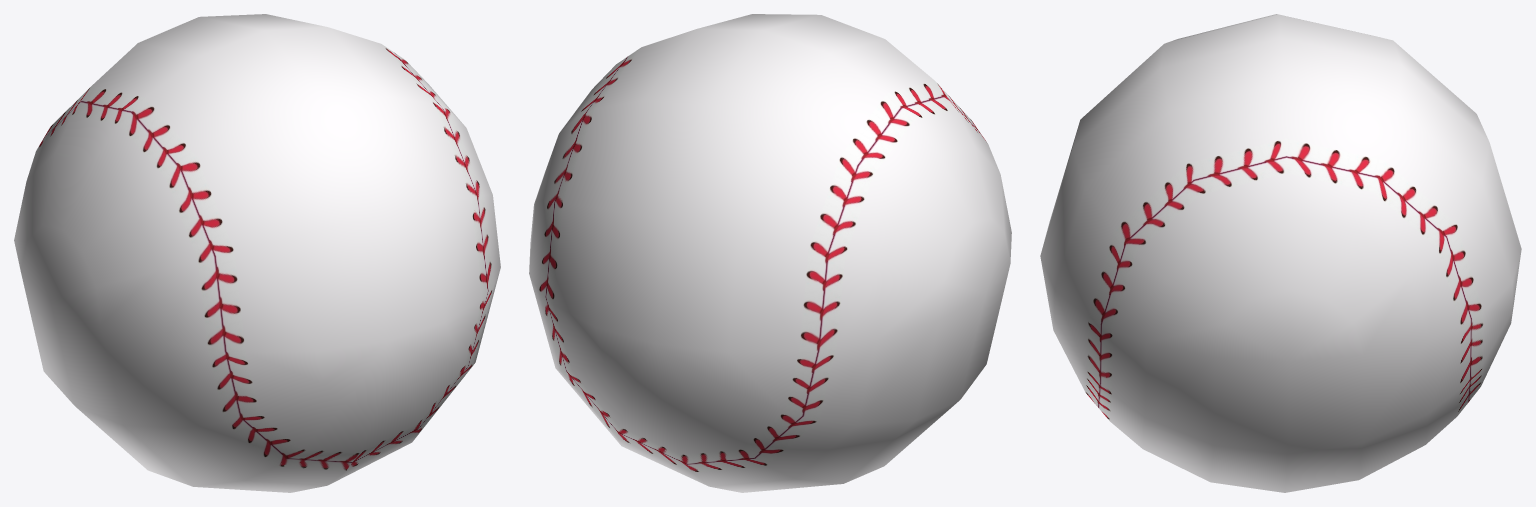
Rendered from batePelota.obj.
3 views of the same model, side by side, from view 1: azimuth 30°, elevation 25°; view 2: azimuth 150°, elevation 25°; view 3: azimuth 270°, elevation 25° (orthographic).
Parts seen in each view (by area): view 1: Baseball; view 2: Baseball; view 3: Baseball.
Boxes of the visible parts, <box> form: Baseball: <box>14,14,500,492</box>; Baseball: <box>529,14,1011,492</box>; Baseball: <box>1040,14,1521,492</box>.
Bounding box in the file's own units: 0.7364 × 0.7368 × 0.7368.
